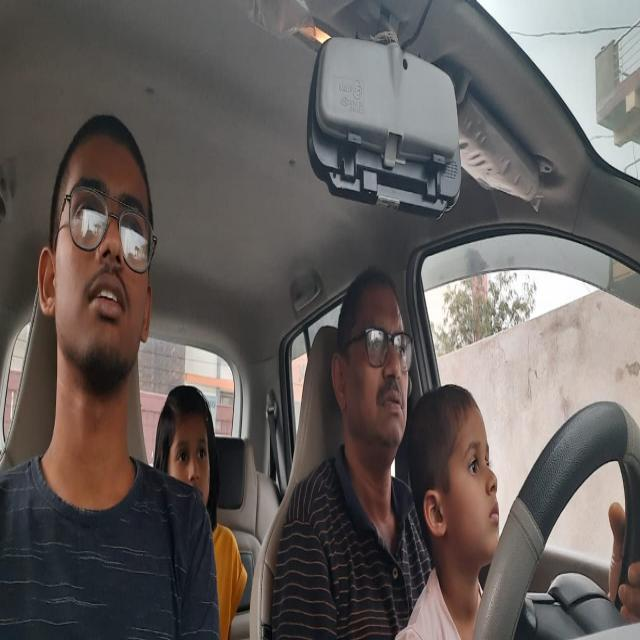child: (413, 380, 503, 562)
person: (41, 104, 156, 398), (332, 262, 412, 466), (156, 378, 214, 527)
